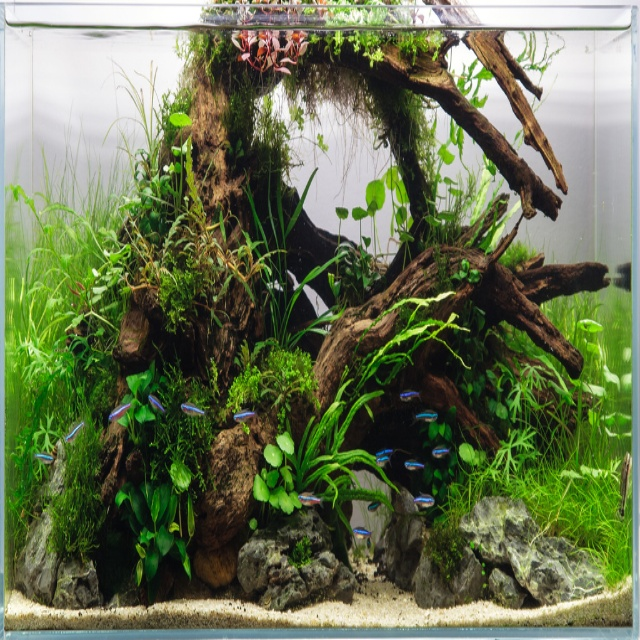Fish: (63, 417, 87, 446), (296, 492, 322, 516), (108, 403, 133, 425), (399, 383, 420, 407), (373, 449, 396, 468), (33, 449, 55, 468), (433, 438, 449, 464), (148, 389, 164, 414), (233, 406, 252, 426), (413, 495, 435, 511), (353, 522, 373, 538), (404, 459, 425, 474), (182, 403, 206, 415), (414, 414, 438, 426), (367, 500, 384, 513)
